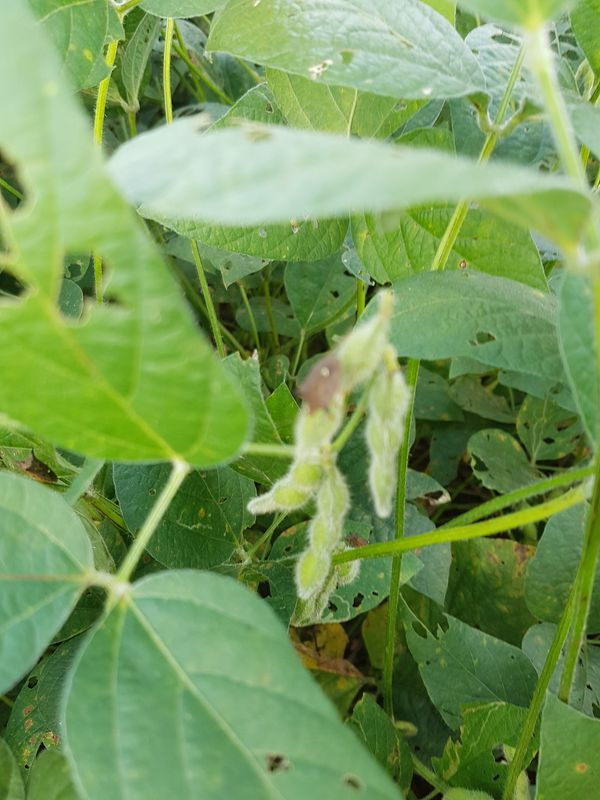Euschistus_heros_adulto: (287, 348, 356, 428), (335, 526, 375, 557)
